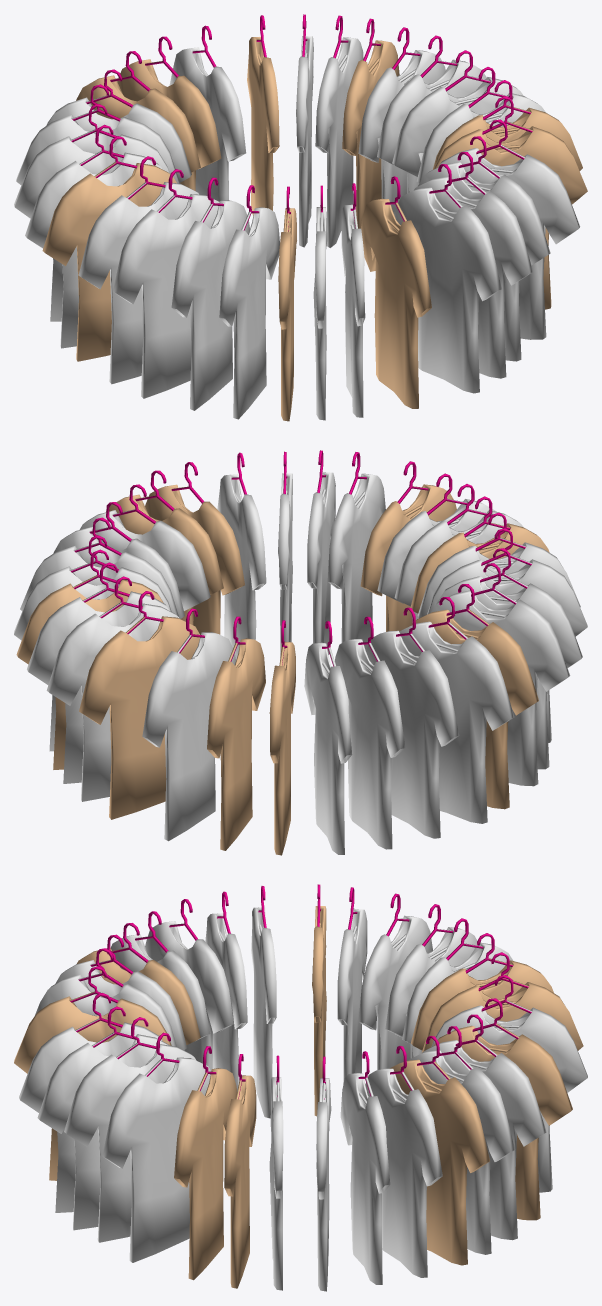
The model's file is Shirts_circle.fbx.
3 views of the same model, one above another, from view 1: azimuth 30°, elevation 25°; view 2: azimuth 150°, elevation 25°; view 3: azimuth 270°, elevation 25° (orthographic).
Visible parts, largest first — view 1: Shirt1.020; view 2: Shirt1.020; view 3: Shirt1.020.
Part boxes in pixels (<box>): Shirt1.020: <box>14,14,587,421</box>; Shirt1.020: <box>14,450,587,855</box>; Shirt1.020: <box>14,884,587,1291</box>.
Size of the model in its own units: 802 by 336 by 806.
